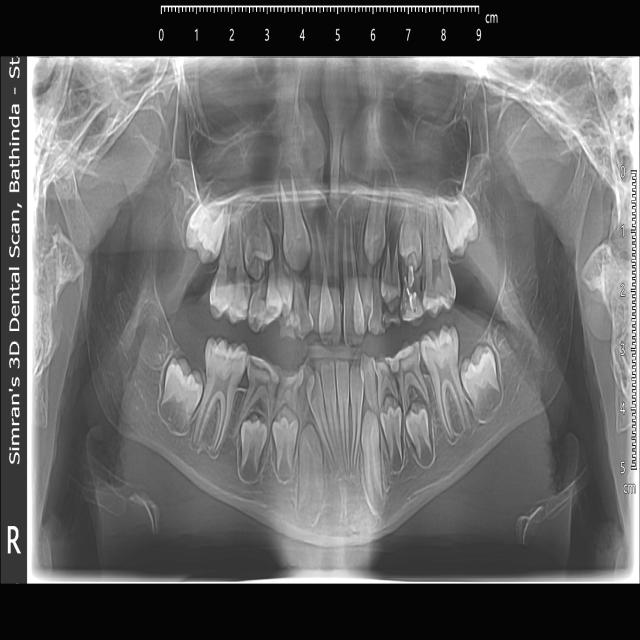Filling: (377, 339, 420, 385), (402, 279, 424, 324)
